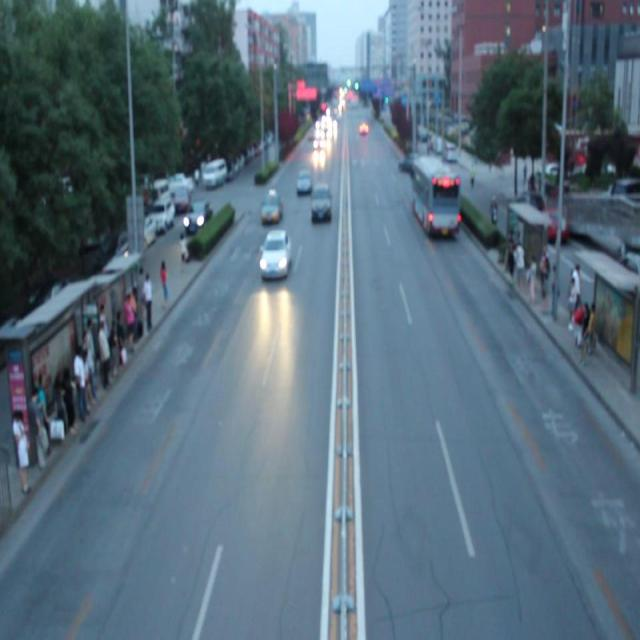car: (260, 227, 290, 279), (311, 184, 331, 220), (262, 190, 282, 220), (296, 170, 311, 194), (400, 151, 416, 171)
van: (411, 154, 460, 235)
